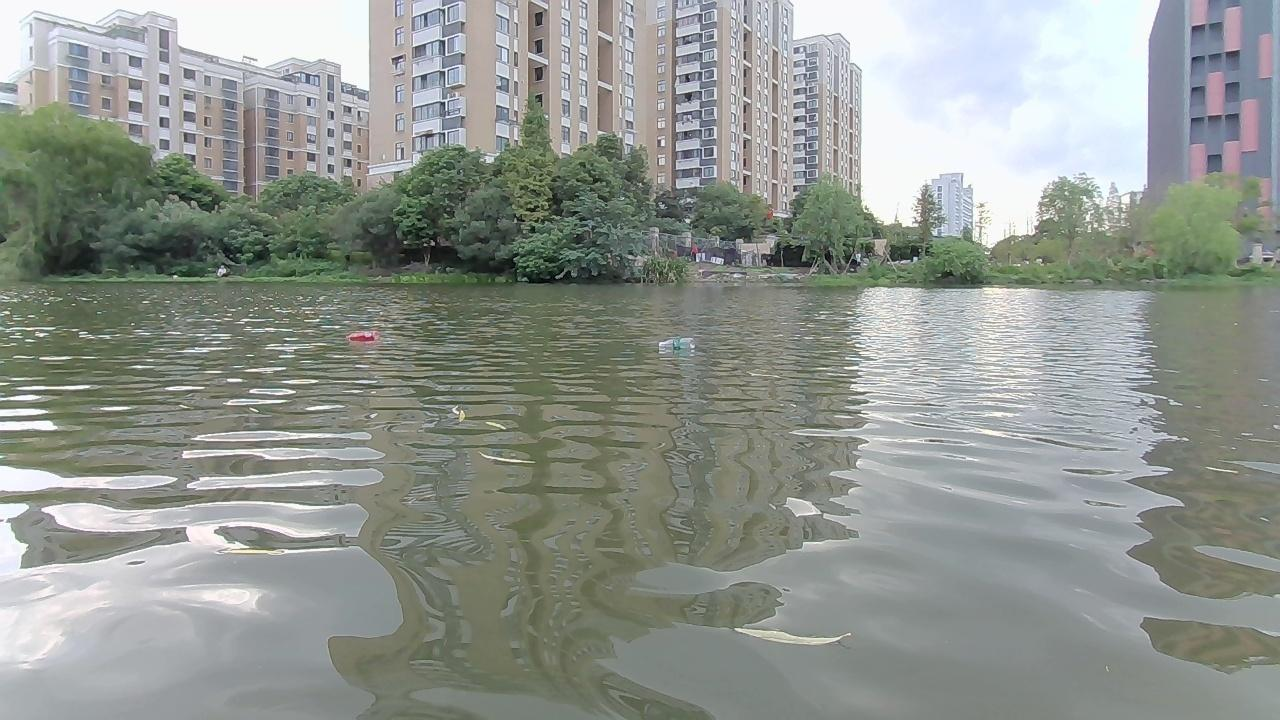bottle: (342, 328, 378, 343), (658, 335, 691, 351)
